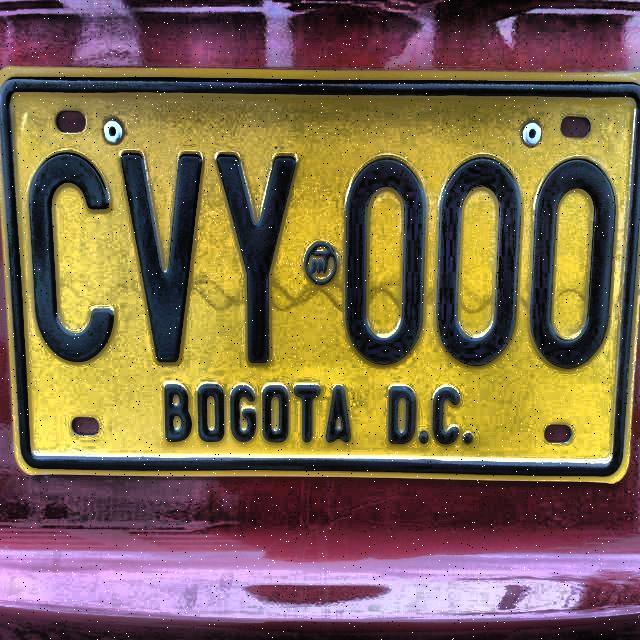0: (431, 150, 525, 376), (342, 142, 428, 370), (526, 156, 614, 372)
C: (18, 145, 128, 377)
V: (117, 148, 205, 370)
Y: (212, 149, 296, 375)
